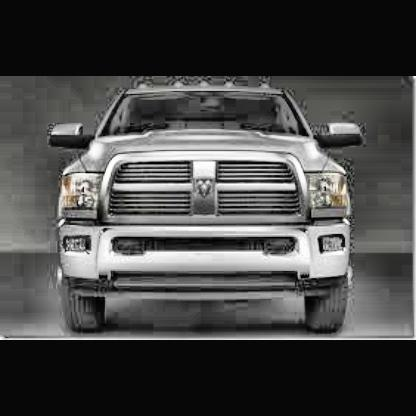Dodge Ram Pickup 3500 Crew Cab 2010: (51, 77, 357, 339)
